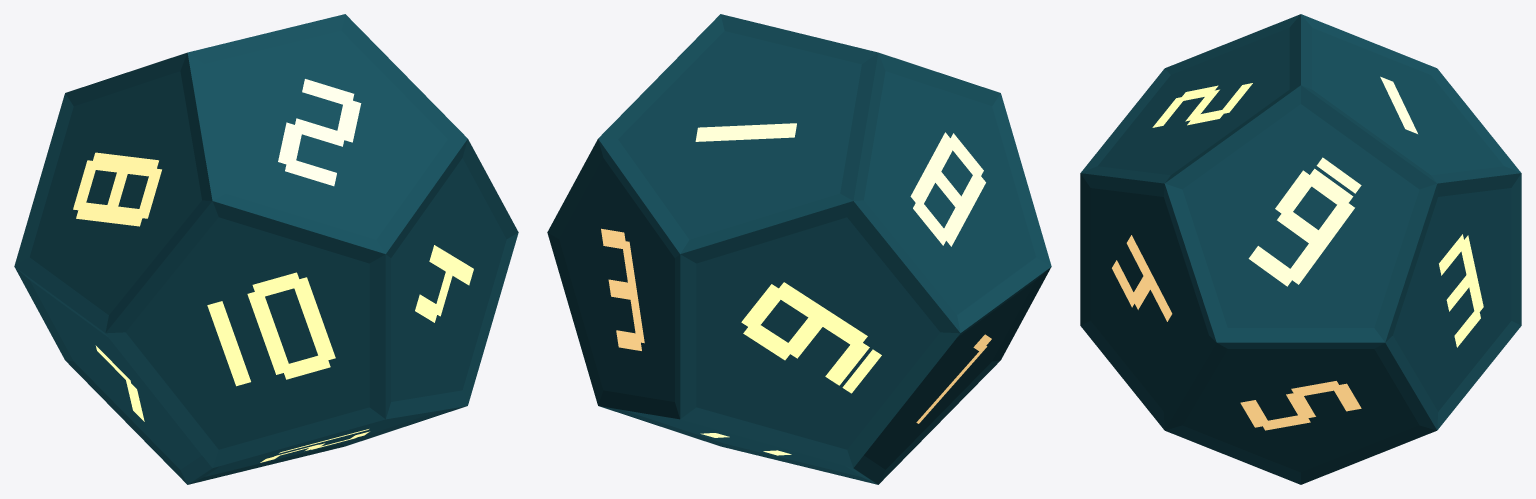
The model's file is crystal-d12.glb.
The picture shows the model from 3 angles, left to right: view 1: azimuth 30°, elevation 25°; view 2: azimuth 150°, elevation 25°; view 3: azimuth 270°, elevation 25°; orthographic projection. The views are drawn at different scales.
Visible parts, largest first — view 1: crystal-d12; view 2: crystal-d12; view 3: crystal-d12.
Part boxes in pixels (bbox=[...]): crystal-d12: bbox=[14, 14, 518, 484]; crystal-d12: bbox=[547, 14, 1051, 484]; crystal-d12: bbox=[1080, 14, 1521, 484].
Size of the model in its own units: 0.0561 by 0.0561 by 0.0561.
